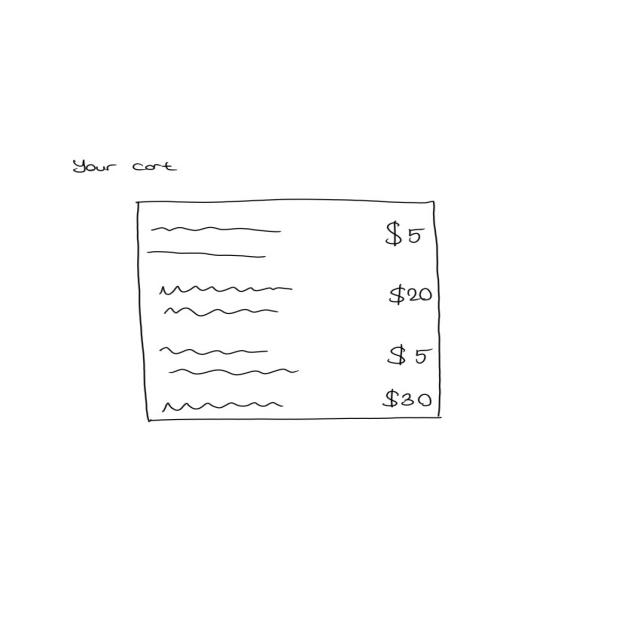container: (136, 199, 445, 423)
label: (72, 160, 180, 176), (387, 344, 436, 368), (385, 221, 427, 248), (383, 389, 434, 411), (390, 283, 434, 307)
text: (161, 401, 285, 416), (149, 226, 287, 236), (147, 251, 268, 261)
textbox: (157, 284, 299, 320), (154, 348, 304, 378)
